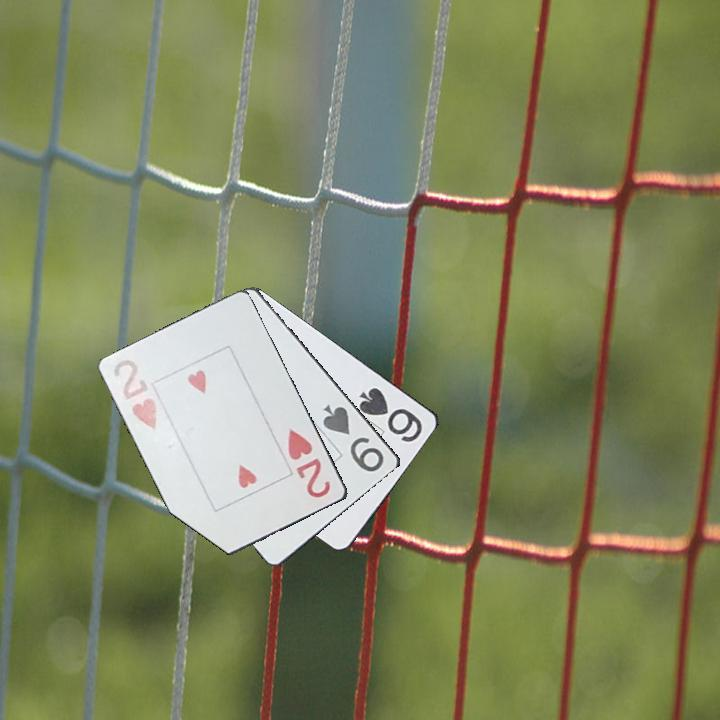2h: (111, 354, 165, 433), (285, 425, 334, 501)
6s: (356, 383, 426, 445)
9s: (319, 400, 387, 475)
